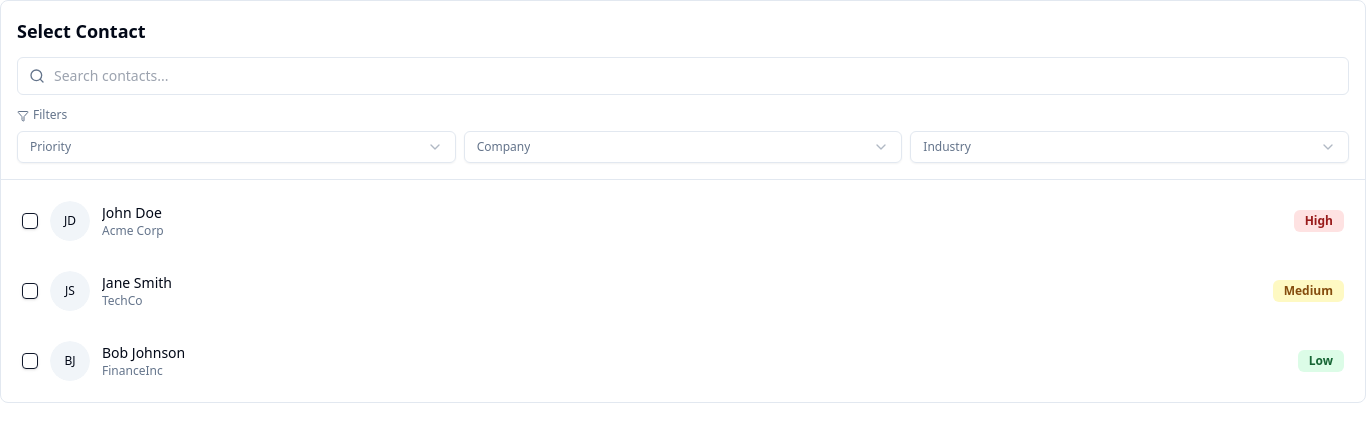
Scenario: ContactSidebar › Filters › shows active filters indicator
The width and height of the screenshot is (1366, 428).
What coordinates should you click on to do the following:
click the dropdown "Priority"
I would click on:
 (51, 146)
Its box is 17,131 -> 456,163.
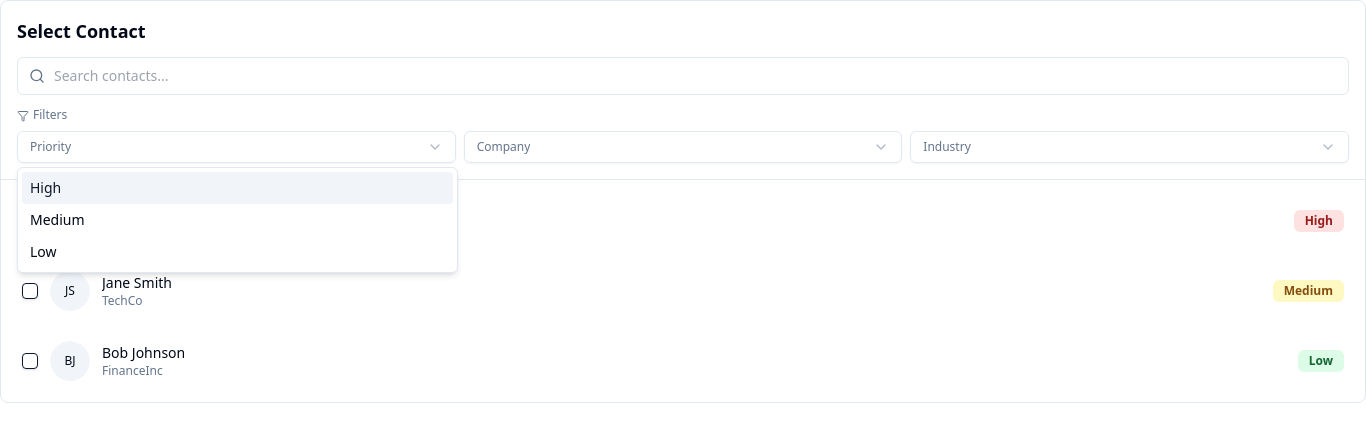
What coordinates should you click on to do the following:
click the option "High"
I would click on:
 (46, 188)
Its box is 22,172 -> 453,204.
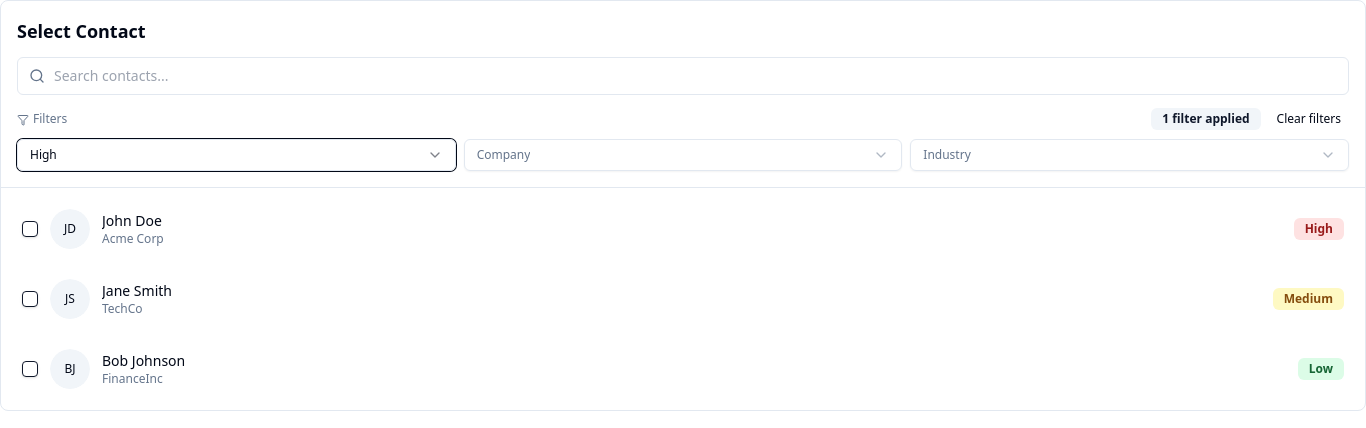
Now the text "1 filter applied" is shown, box 1151,108 -> 1261,130
